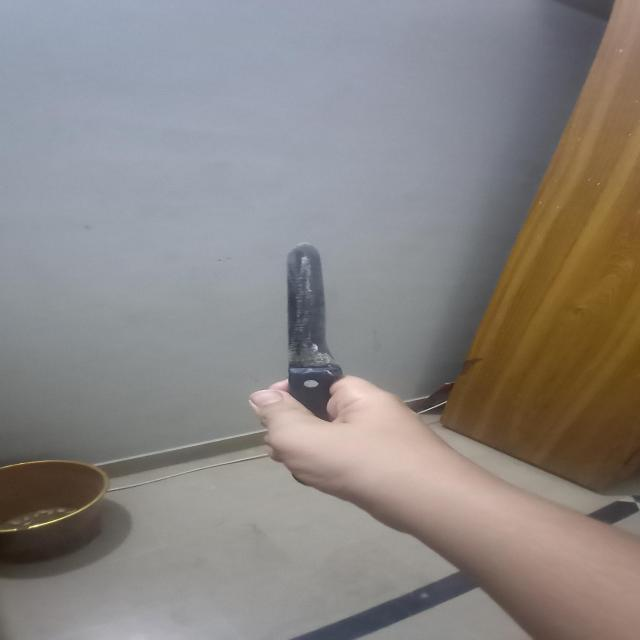Knife: (288, 243, 348, 424)
Person: (253, 374, 640, 640)
